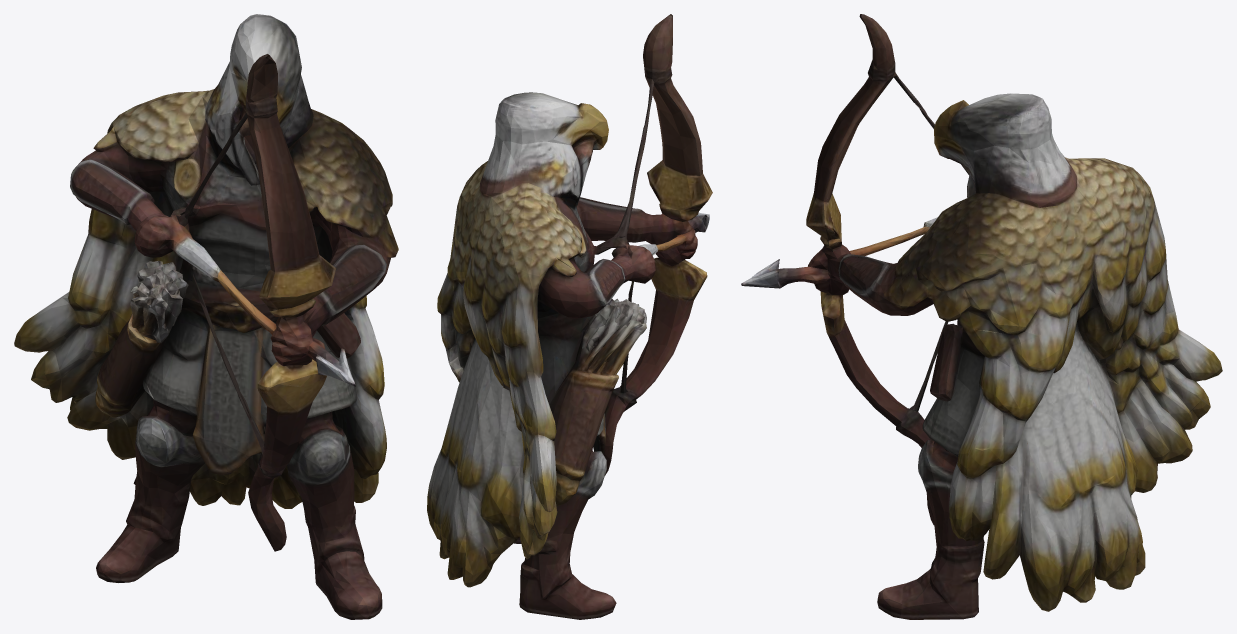
The model's file is eagleCohortArcher.glb.
3 views of the same model, side by side, from view 1: azimuth 30°, elevation 25°; view 2: azimuth 150°, elevation 25°; view 3: azimuth 270°, elevation 25° (orthographic). The views are drawn at different scales.
Visible parts, largest first — view 1: world; view 2: world; view 3: world.
Part boxes in pixels (left/top/right/bottom): world: left=14, top=14, right=398, bottom=619; world: left=427, top=14, right=712, bottom=619; world: left=741, top=14, right=1222, bottom=619.
Bounding box in the file's own units: 0.4191 × 1 × 0.7964.
1 material, 1 textured.
